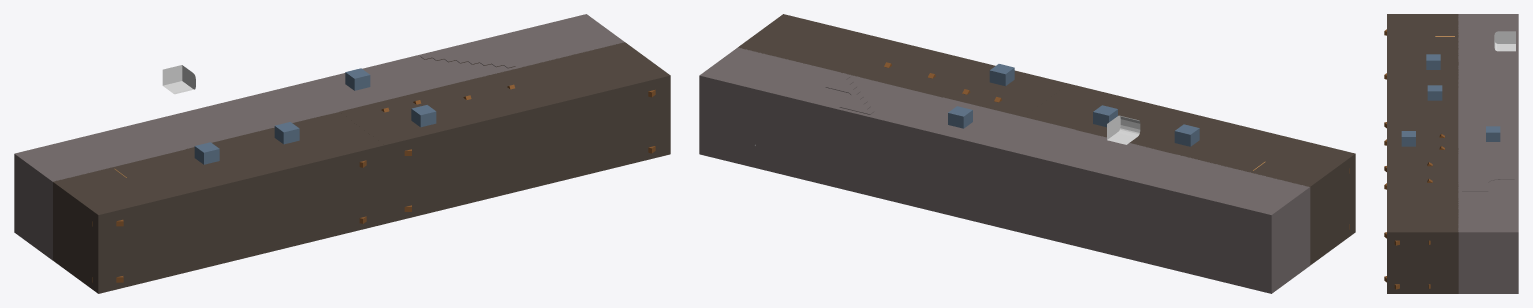
The model's file is tutorialLevelPlusCollisions4.glb.
The picture shows the model from 3 angles, left to right: view 1: azimuth 30°, elevation 25°; view 2: azimuth 150°, elevation 25°; view 3: azimuth 270°, elevation 25°; orthographic projection. The views are drawn at different scales.
Parts seen in each view (by area): view 1: Room7-col, Room6-col, Room1-col, Room3-col, Room5-col, Room2-col, Room4-col, Plane.001, Stairs-col, Cube.083, Cube.073, Cube.078 (+1 smaller); view 2: Room1-col, Room3-col, Room7-col, Room6-col, Room5-col, Room2-col, Room4-col, Plane.001, Stairs-col, Cube.088, Cube.083, Cube.073; view 3: Room6-col, Room7-col, Room5-col, Room3-col, Room1-col, Room2-col, Room4-col, Stairs-col, Plane.001, Cube.078, Cube.073, Cube.083 (+1 smaller).
Boxes of the visible parts, x1,y1,x2,y2 form: Room7-col: (53, 112, 384, 293); Room6-col: (339, 42, 670, 223); Room1-col: (14, 121, 185, 260); Room3-col: (249, 64, 418, 122); Room5-col: (484, 14, 624, 66); Room2-col: (146, 96, 285, 149); Room4-col: (381, 39, 521, 91); Plane.001: (162, 65, 195, 94); Stairs-col: (420, 49, 515, 68); Cube.083: (411, 105, 436, 127); Cube.073: (345, 68, 370, 90); Cube.078: (274, 122, 299, 144); Room1-col: (1139, 154, 1310, 293); Room3-col: (904, 97, 1075, 236); Room7-col: (1024, 83, 1355, 265); Room6-col: (738, 14, 1068, 116); Room5-col: (699, 47, 840, 179); Room2-col: (1036, 130, 1176, 261); Room4-col: (802, 72, 942, 204); Plane.001: (1107, 115, 1140, 144); Stairs-col: (825, 75, 874, 114); Cube.088: (1174, 124, 1199, 146); Cube.083: (989, 64, 1014, 86); Cube.073: (948, 106, 972, 128); Room6-col: (1387, 123, 1458, 293); Room7-col: (1387, 14, 1458, 123); Room5-col: (1458, 193, 1518, 293); Room3-col: (1458, 103, 1518, 153); Room1-col: (1458, 14, 1518, 64); Room2-col: (1458, 64, 1518, 103); Room4-col: (1458, 153, 1518, 192); Stairs-col: (1462, 167, 1514, 191); Plane.001: (1494, 31, 1515, 51); Cube.078: (1427, 85, 1442, 100); Cube.073: (1486, 126, 1500, 141); Cube.083: (1401, 131, 1415, 146).
Bounding box in the file's own units: 92.64 × 19.76 × 23.99.
